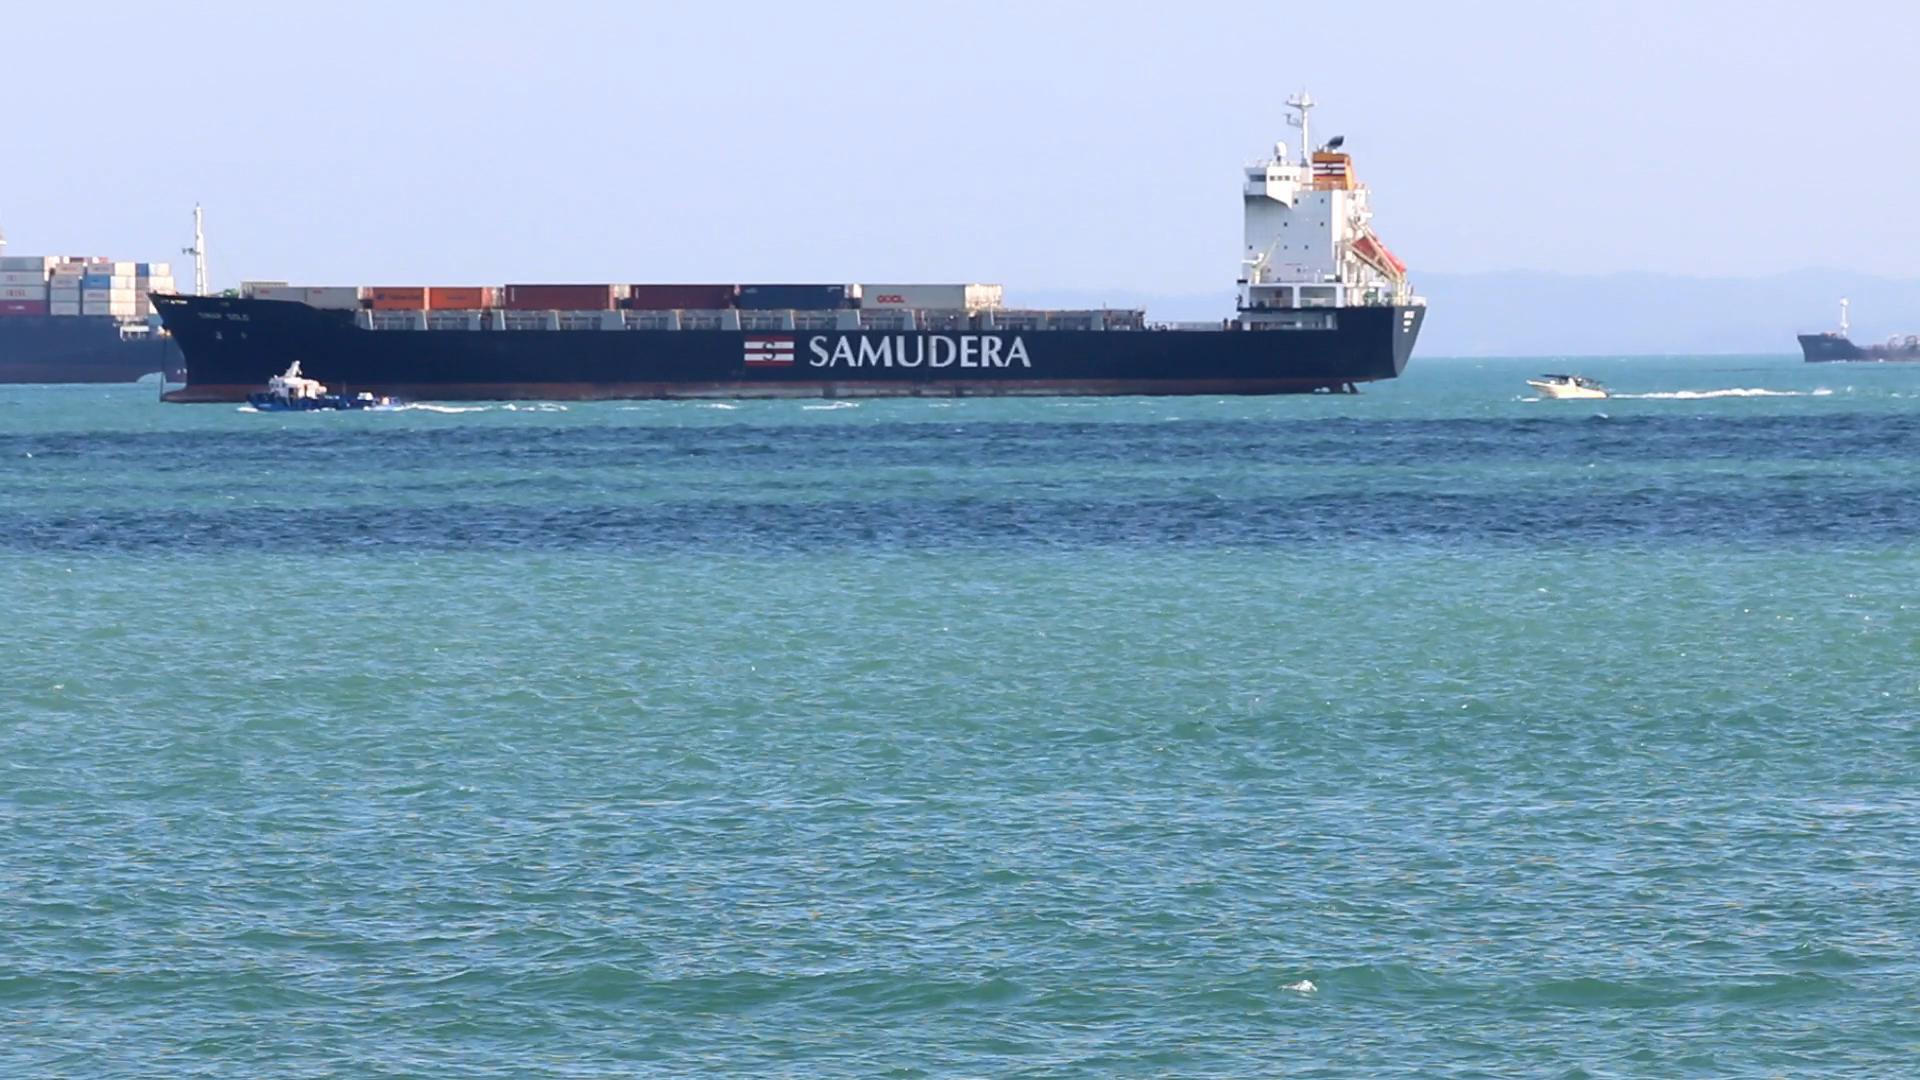Container Ship: (144, 87, 1429, 406), (0, 255, 175, 390), (1796, 293, 1920, 365)
